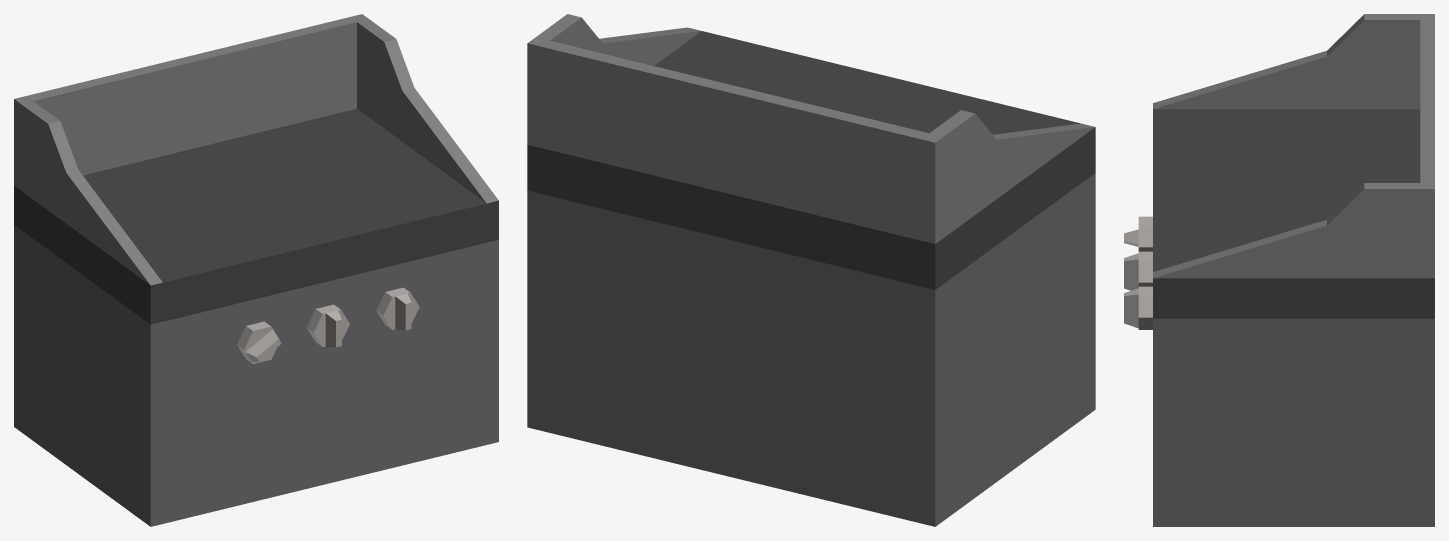
Rendered from FoodMachine02.fbx.
The picture shows the model from 3 angles, left to right: view 1: azimuth 30°, elevation 25°; view 2: azimuth 150°, elevation 25°; view 3: azimuth 270°, elevation 25°; orthographic projection. The views are drawn at different scales.
Visible parts, largest first — view 1: FoodMachine02; view 2: FoodMachine02; view 3: FoodMachine02.
Part boxes in pixels (x1,y1,x2,y2): FoodMachine02: (14,14,498,526); FoodMachine02: (527,14,1095,526); FoodMachine02: (1124,14,1434,526).
Size of the model in its own units: 2 by 1.8 by 1.5.
1 material, 1 textured.
